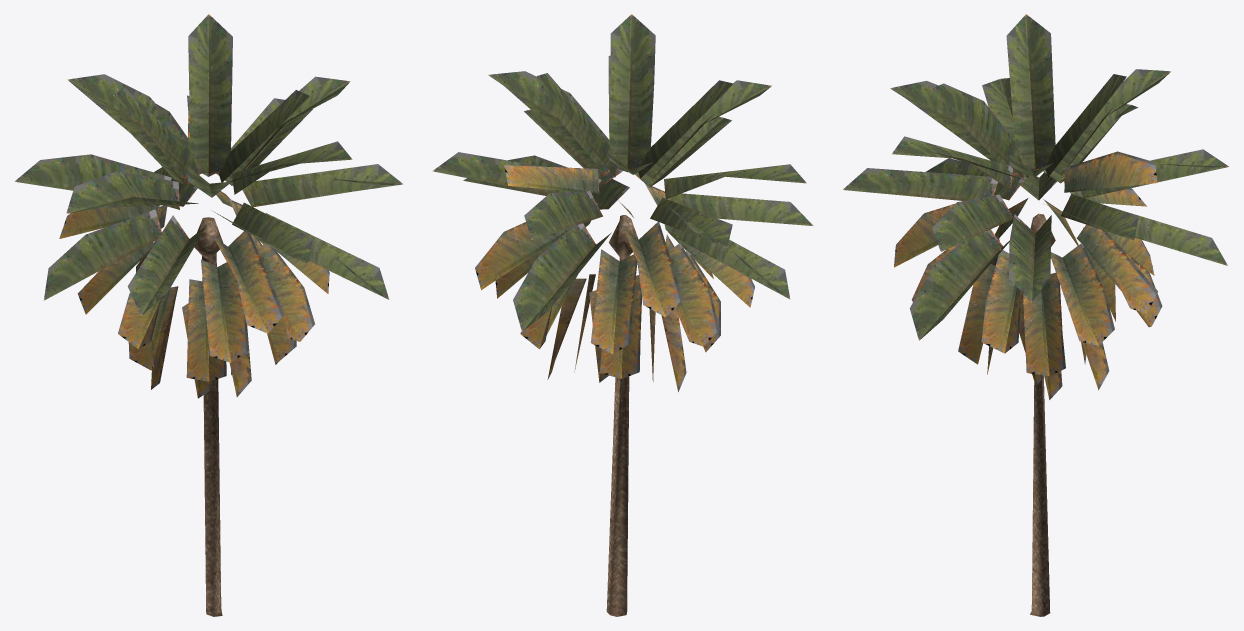
Rendered from arid-palm-tall-a-map.glb.
The picture shows the model from 3 angles, left to right: view 1: azimuth 30°, elevation 25°; view 2: azimuth 150°, elevation 25°; view 3: azimuth 270°, elevation 25°; orthographic projection.
Parts seen in each view (by area): view 1: palm_tree_tall_a_LOD0; view 2: palm_tree_tall_a_LOD0; view 3: palm_tree_tall_a_LOD0.
Boxes of the visible parts, bbox=[...] form: palm_tree_tall_a_LOD0: bbox=[14, 14, 403, 616]; palm_tree_tall_a_LOD0: bbox=[432, 14, 813, 616]; palm_tree_tall_a_LOD0: bbox=[843, 14, 1229, 616].
Bounding box in the file's own units: 16.88 × 27.43 × 17.24.
Materials: 1 (1 with a texture image).
